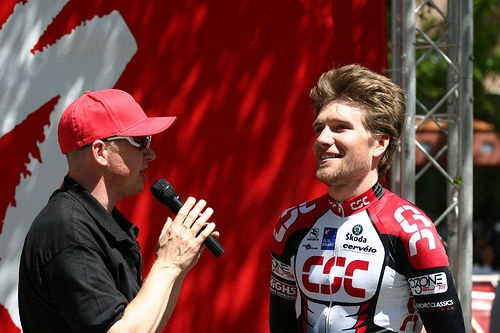head: (57, 90, 157, 200), (309, 65, 397, 187)
person: (265, 62, 484, 333), (15, 88, 216, 328)
